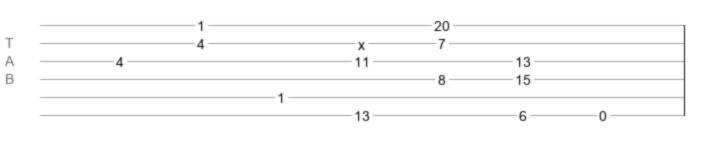0: (599, 108, 607, 118)
1: (197, 18, 205, 28), (277, 90, 285, 100)
11: (354, 54, 370, 64)
13: (354, 108, 370, 118), (515, 54, 531, 64)
15: (515, 72, 531, 82)
20: (434, 18, 450, 28)
4: (116, 54, 124, 64), (197, 36, 205, 46)
6: (519, 108, 527, 118)
7: (438, 36, 446, 46)
8: (438, 72, 446, 82)
x: (358, 37, 365, 45)
